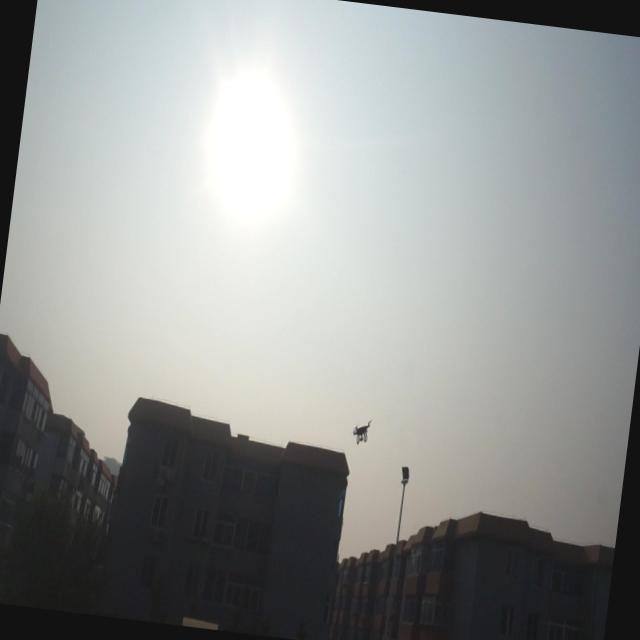drone: (350, 412, 375, 448)
